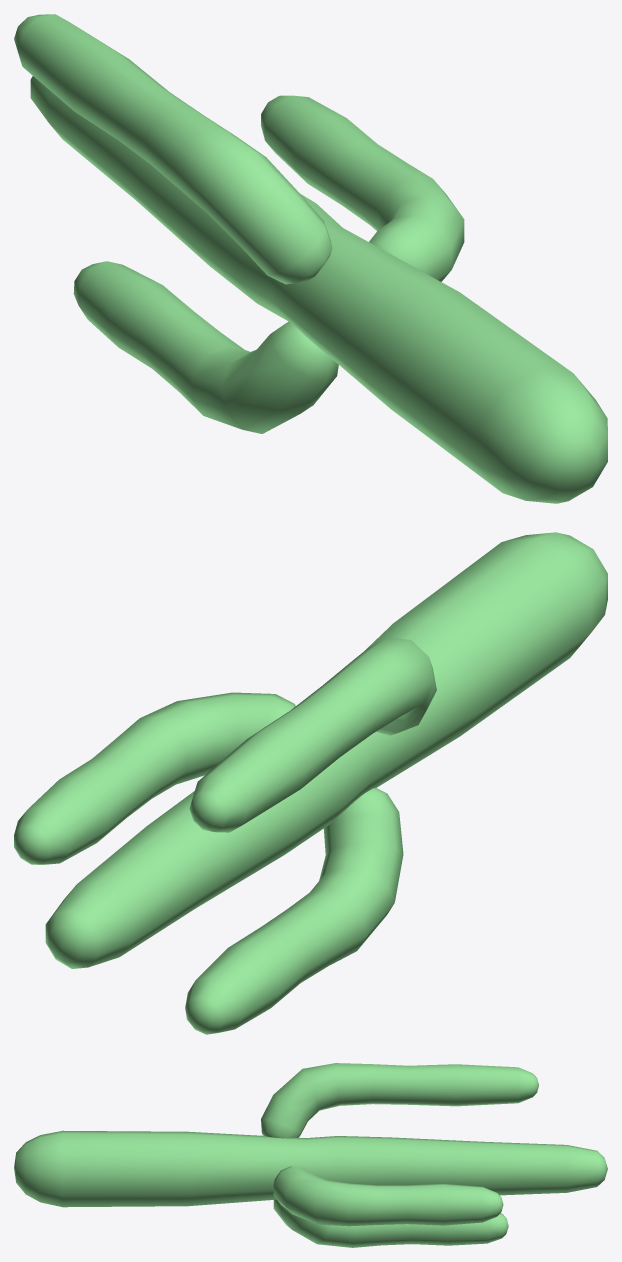
The model's file is LOD_Saguaro.FBX.
3 views of the same model, one above another, from view 1: azimuth 30°, elevation 25°; view 2: azimuth 150°, elevation 25°; view 3: azimuth 270°, elevation 25° (orthographic). The views are drawn at different scales.
Visible parts, largest first — view 1: Saguaro1_LOD0; view 2: Saguaro1_LOD0; view 3: Saguaro1_LOD0.
Boxes of the visible parts, <box> form: Saguaro1_LOD0: <box>14,14,607,503</box>; Saguaro1_LOD0: <box>14,532,607,1034</box>; Saguaro1_LOD0: <box>14,1063,607,1247</box>.
Size of the model in its own units: 123 by 401 by 128.
